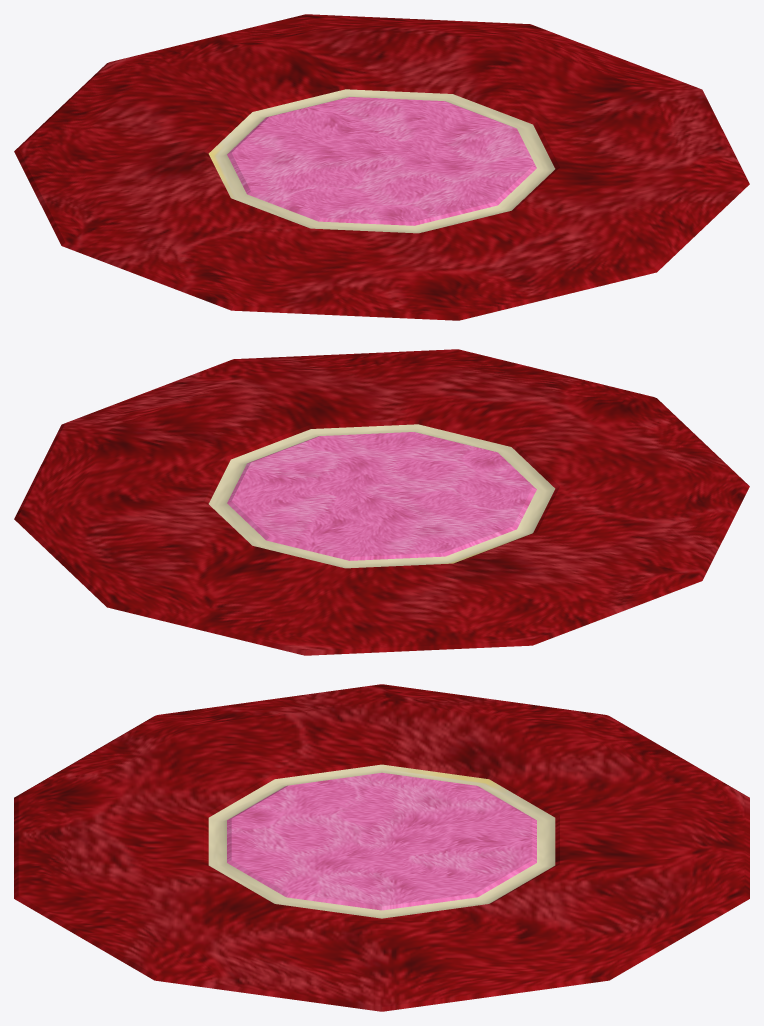
The model's file is Circular_Carpet_03_A.FBX.
The picture shows the model from 3 angles, top to bottom: view 1: azimuth 30°, elevation 25°; view 2: azimuth 150°, elevation 25°; view 3: azimuth 270°, elevation 25°; orthographic projection. The views are drawn at different scales.
Parts seen in each view (by area): view 1: Circular_Carpet; view 2: Circular_Carpet; view 3: Circular_Carpet.
Part boxes in pixels (box(x1,y1,x2,y2)): Circular_Carpet: box(14, 14, 749, 320); Circular_Carpet: box(14, 349, 749, 655); Circular_Carpet: box(14, 684, 749, 1011).
Size of the model in its own units: 316 by 4.05 by 300.
